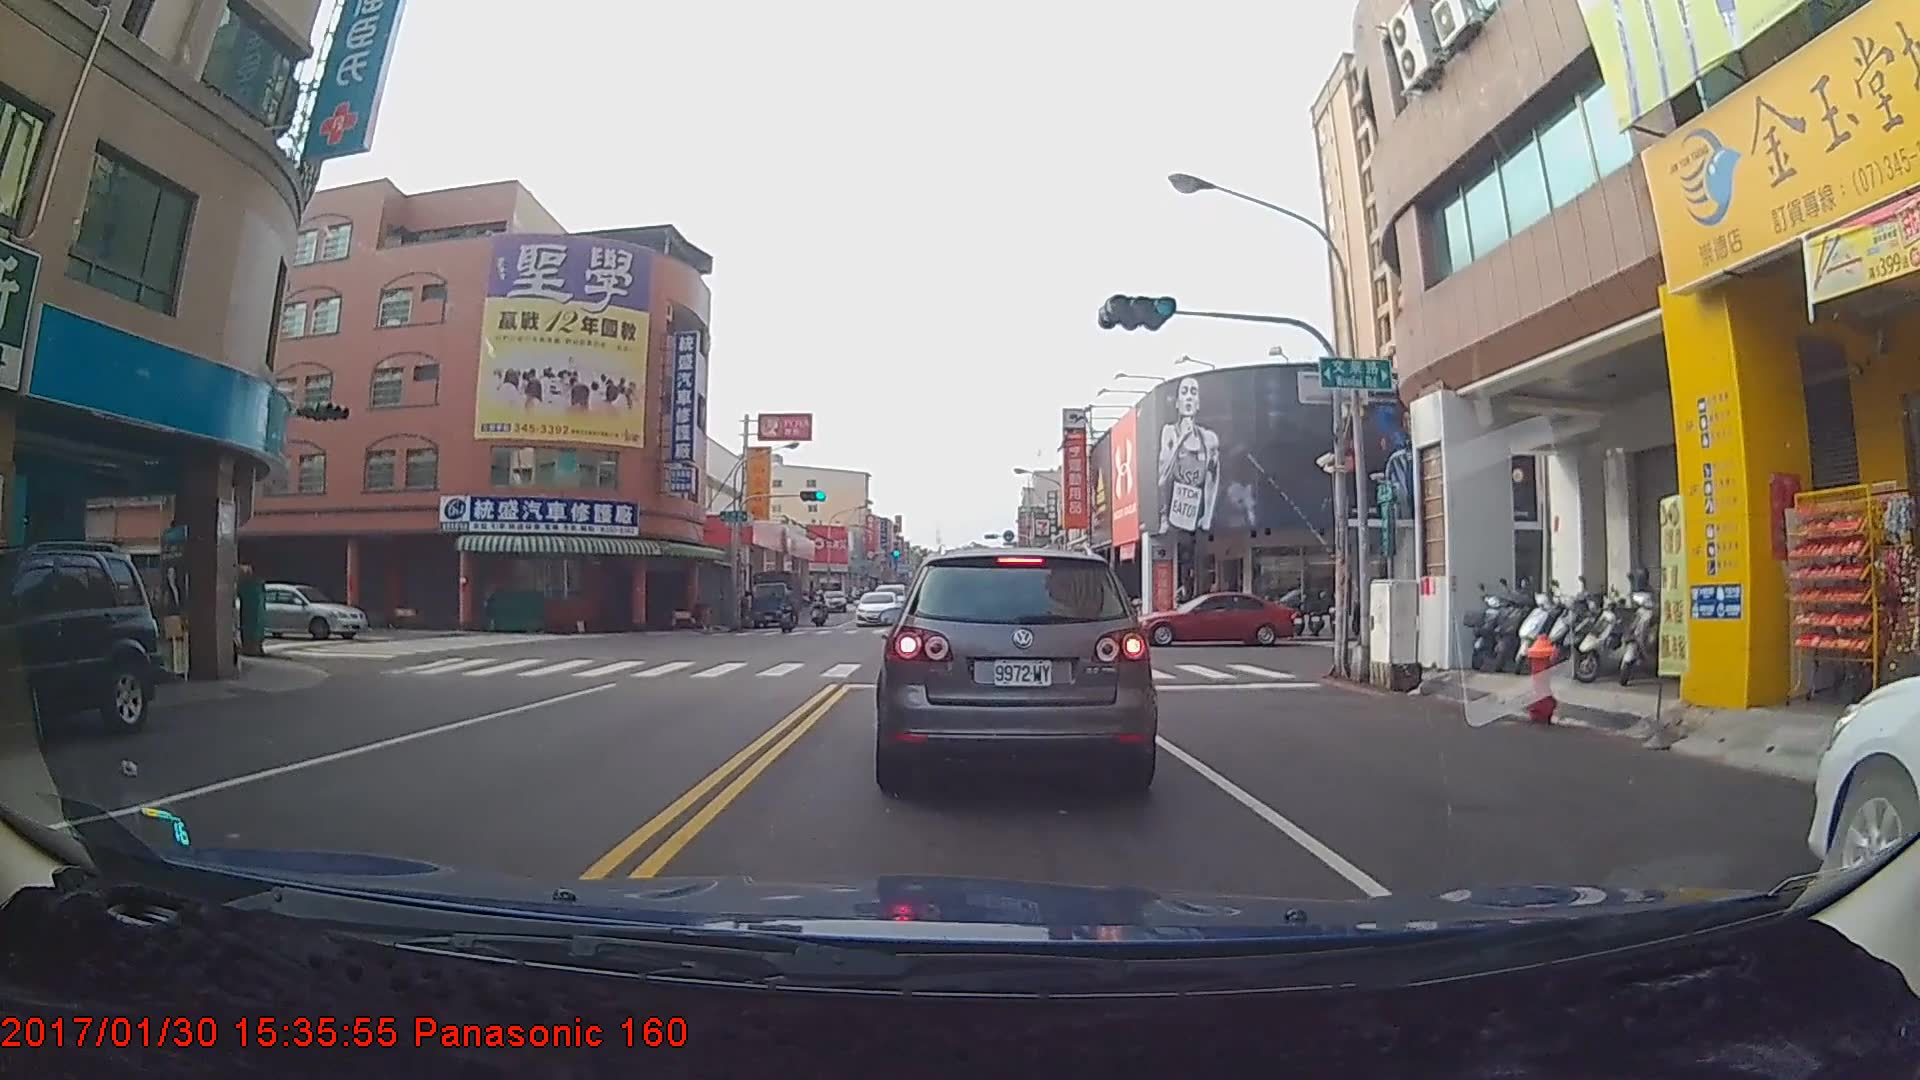rider: (771, 594, 803, 637), (810, 591, 835, 632)
vehicle: (879, 540, 1154, 793), (0, 549, 159, 754), (1133, 590, 1300, 646), (216, 579, 368, 638), (747, 569, 801, 626), (853, 589, 900, 625)
